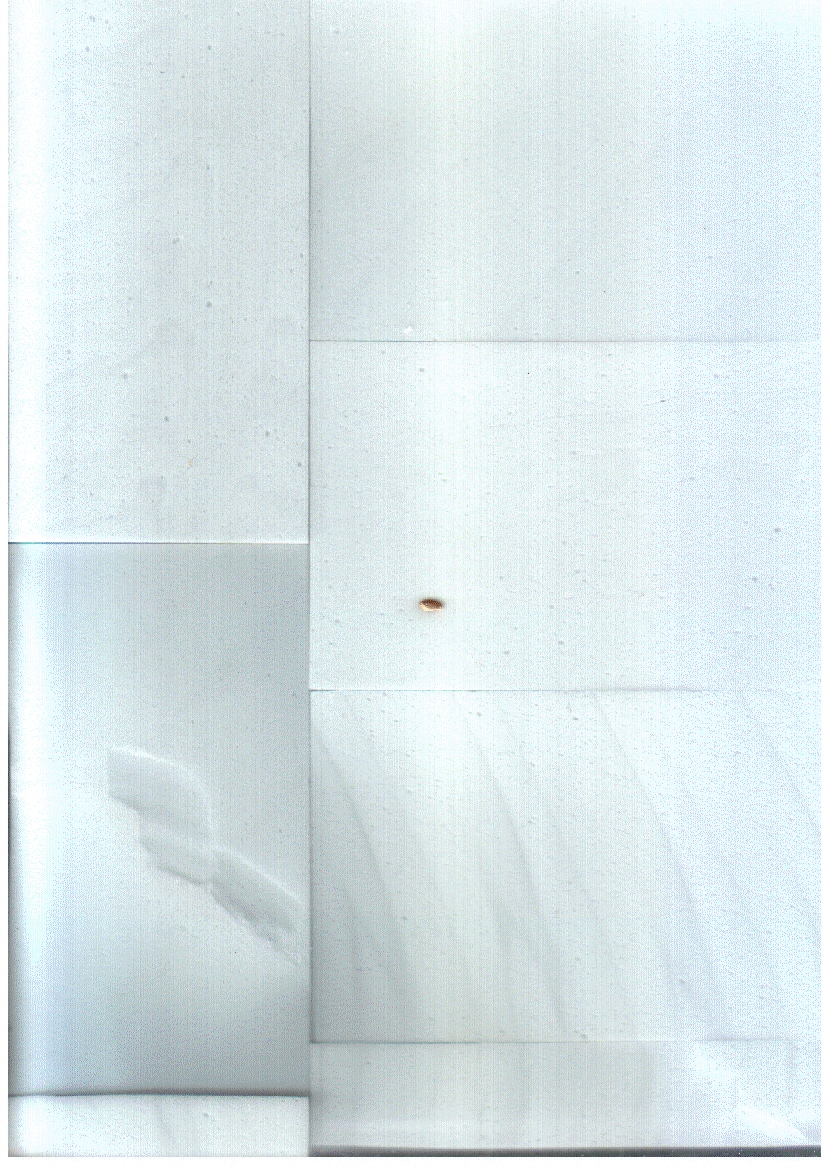grains: (410, 575, 452, 631)
